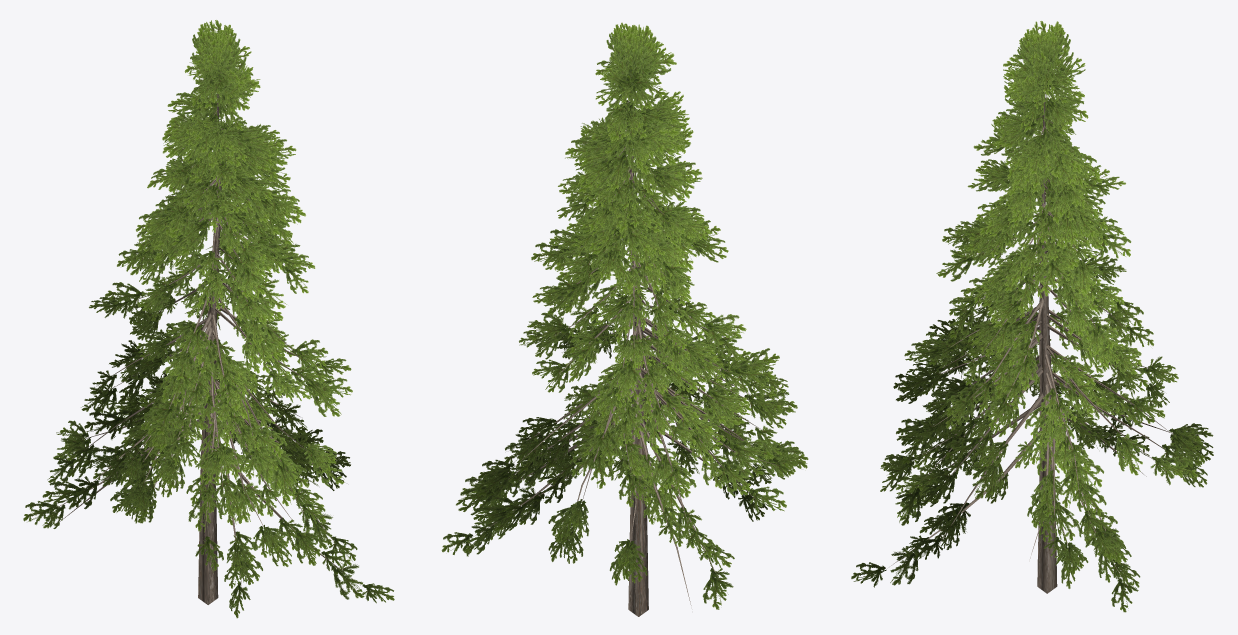
The model's file is pine_large_b.glb.
3 views of the same model, side by side, from view 1: azimuth 30°, elevation 25°; view 2: azimuth 150°, elevation 25°; view 3: azimuth 270°, elevation 25° (orthographic). The views are drawn at different scales.
Visible parts, largest first — view 1: leaves, trunk; view 2: leaves, trunk; view 3: leaves, trunk.
Boxes of the visible parts, box(x1,y1,x2,y2) form: leaves: box(23, 20, 394, 618); trunk: box(58, 94, 360, 604); leaves: box(441, 22, 808, 609); trunk: box(475, 99, 776, 616); leaves: box(851, 21, 1213, 612); trunk: box(891, 94, 1172, 593).
Bounding box in the file's own units: 8.38 × 15 × 8.95.
Materials: 2 (2 with a texture image).
